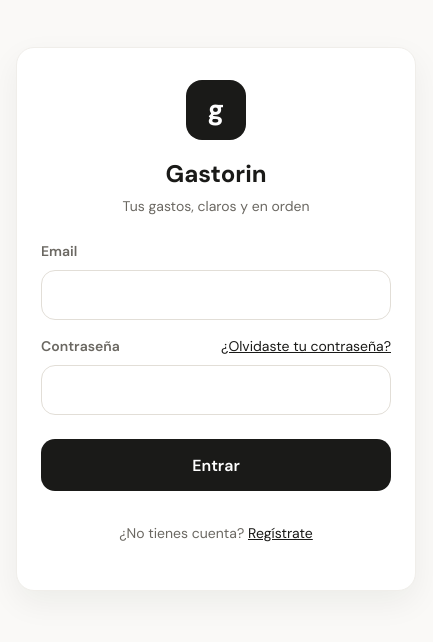
Test: LoginView (HU-1.2) › Escenario: Credenciales incorrectas — mensaje genérico, no revela si el email existe
Type "desconocido@test.com" into the field with id "email" at (216, 295), box 41,270 -> 391,320
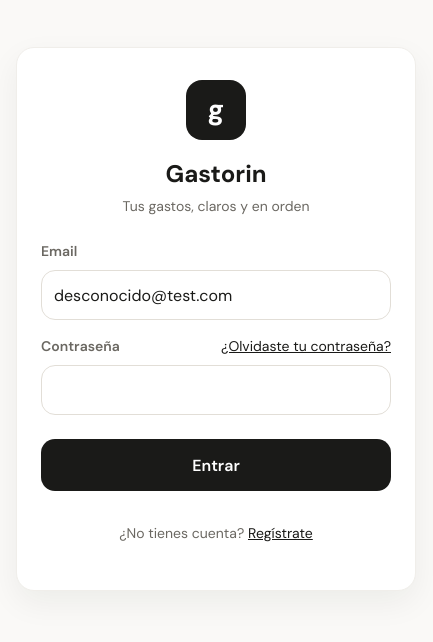
Type "cualquiera" into the password field labelled "Contraseña" at (216, 390), box 41,365 -> 391,415
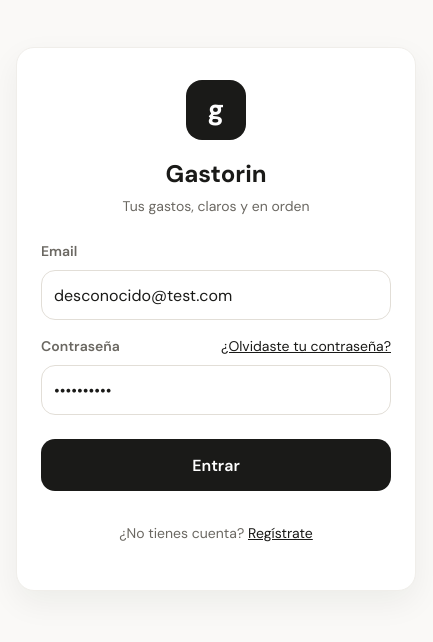
Submit the form, box 41,241 -> 391,491
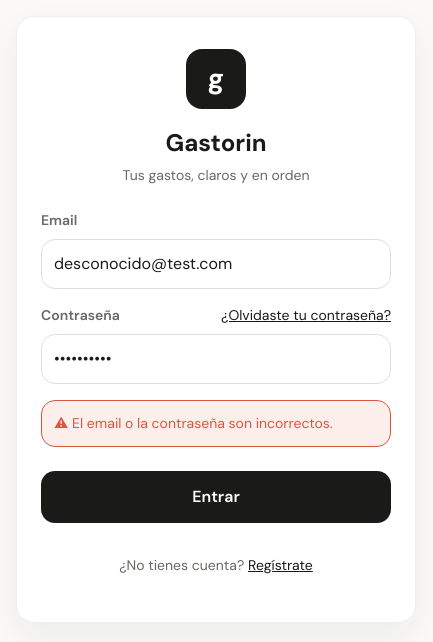
Expected: the message "El email o la contraseña son incorrectos." is shown, 41,400 -> 391,446
